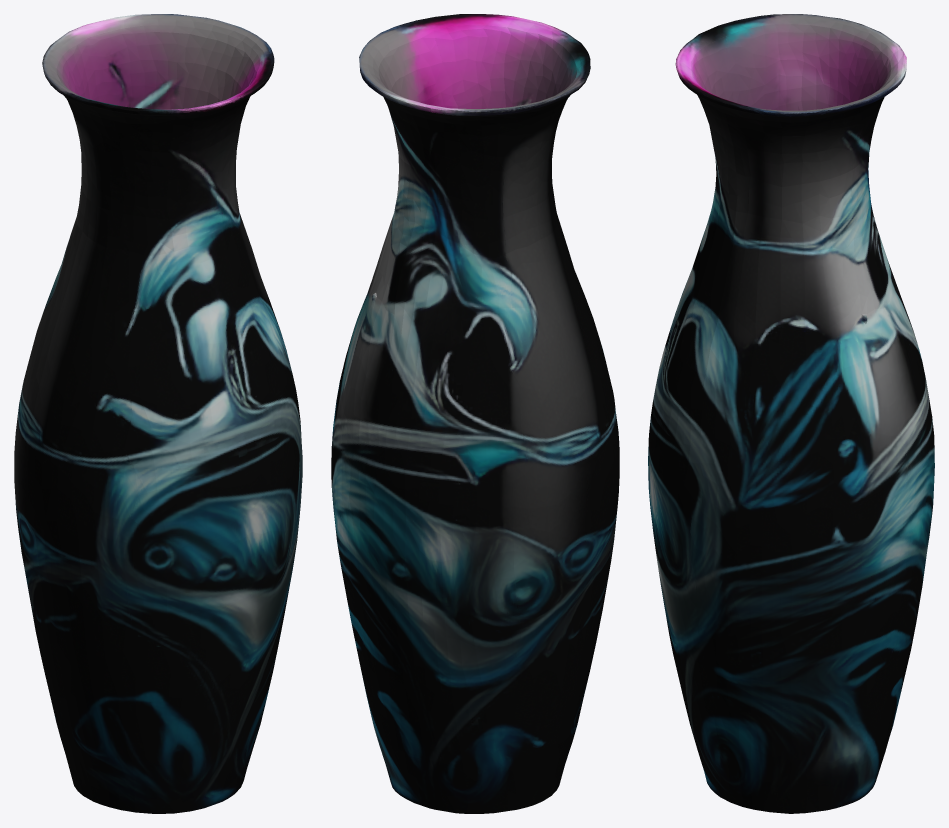
The model's file is porcelain-hand-painted-vase-futuristic.jpeg.glb.
The picture shows the model from 3 angles, left to right: view 1: azimuth 30°, elevation 25°; view 2: azimuth 150°, elevation 25°; view 3: azimuth 270°, elevation 25°; orthographic projection.
Visible parts, largest first — view 1: world; view 2: world; view 3: world.
Boxes of the visible parts, x1,y1,x2,y2 form: world: [14, 14, 302, 813]; world: [331, 14, 619, 813]; world: [648, 14, 934, 813].
Size of the model in its own units: 0.3628 by 1 by 0.3639.
Materials: 1 (1 with a texture image).
